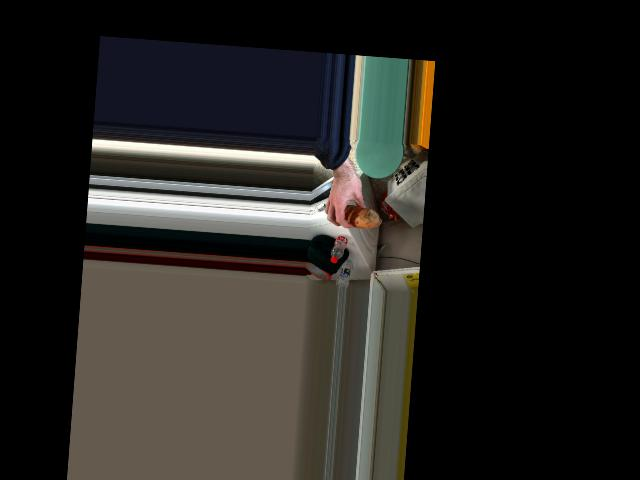sweet_potato: (334, 193, 372, 225)
